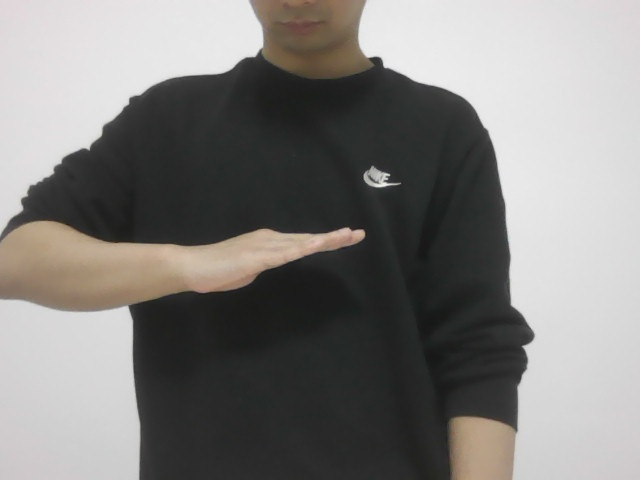safe: (167, 216, 373, 310)
